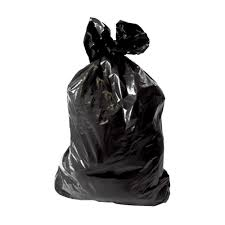Trash: (52, 10, 175, 208)
